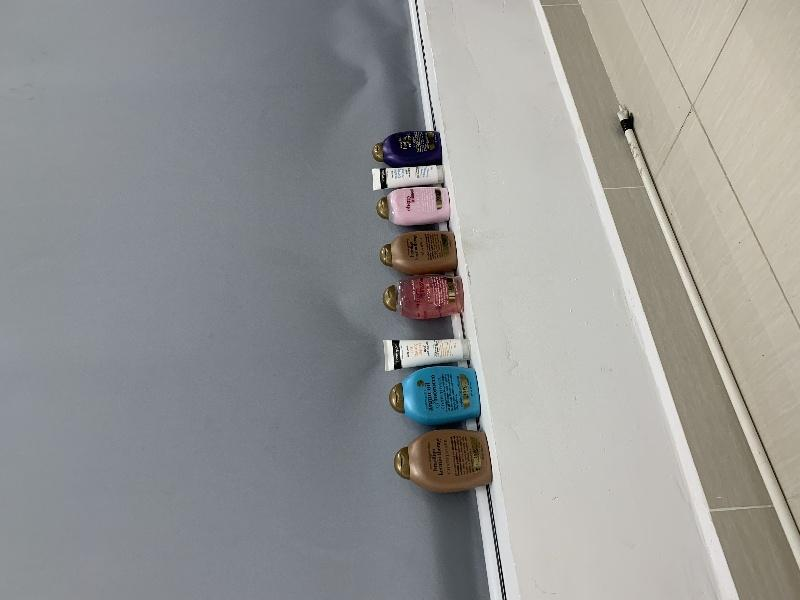AcneFoamingCleanser: (383, 338, 471, 366)
ArganOilOfMorocco_Conditioner: (389, 366, 480, 424)
BiotinCollagen_Shampoo: (372, 131, 442, 165)
BrazilianKeratinTherapy_Shampoo: (379, 231, 457, 275)
BrazilianKerationTherapy_Conditioner: (393, 428, 492, 493)
CherryBlossom_Conditioner: (371, 187, 450, 225)
CherryBlossom_Shampoo: (383, 275, 464, 319)
HydratingFoamingCleanser: (372, 165, 445, 187)
